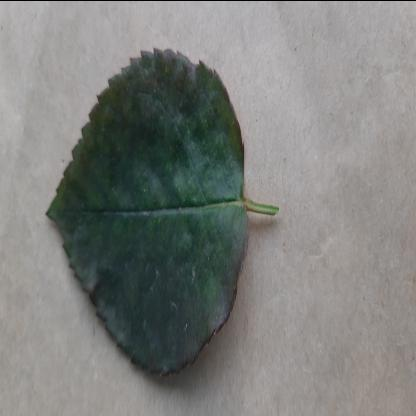powdery-mildew: (47, 47, 249, 386)
